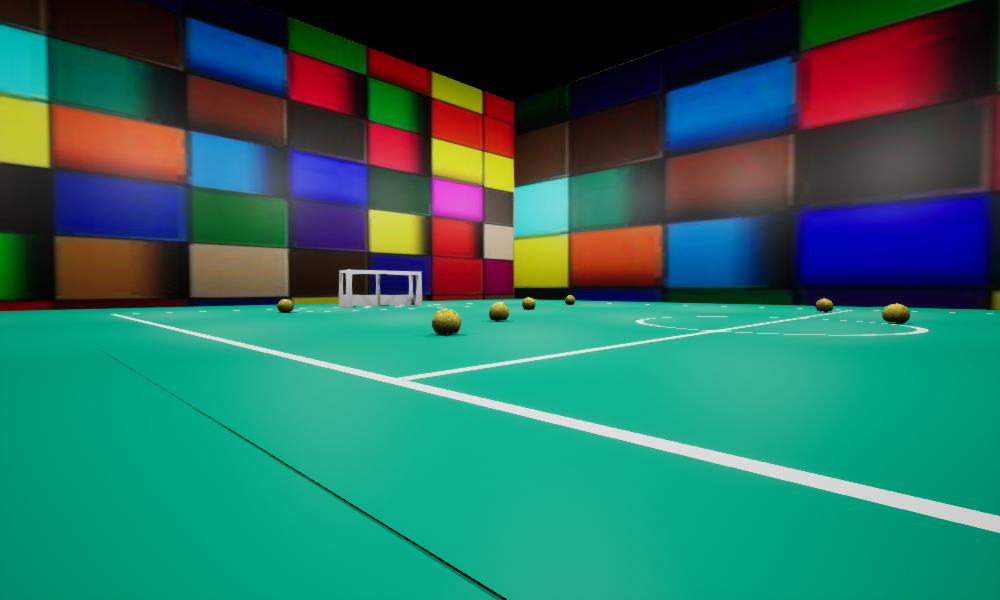b: (432, 308, 460, 334), (882, 303, 909, 323), (489, 302, 508, 320), (815, 298, 832, 311), (277, 299, 293, 312), (522, 297, 535, 309), (565, 295, 574, 304)
g: (339, 269, 421, 306)
